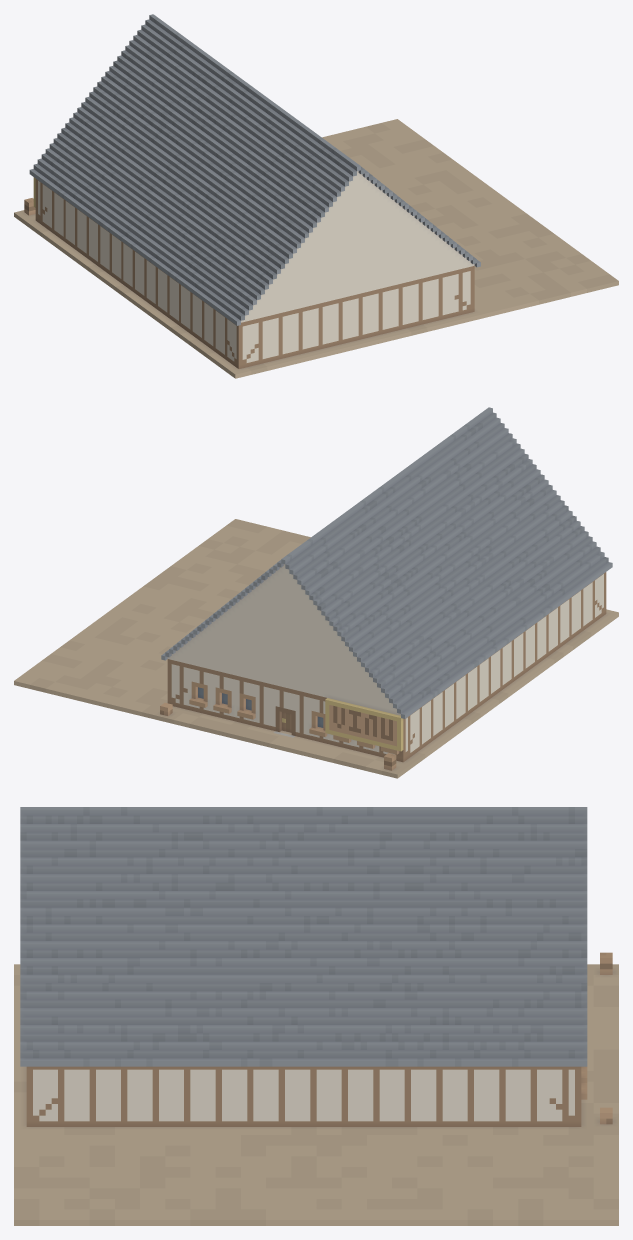
The model's file is university.glb.
3 views of the same model, one above another, from view 1: azimuth 30°, elevation 25°; view 2: azimuth 150°, elevation 25°; view 3: azimuth 270°, elevation 25° (orthographic). The views are drawn at different scales.
Visible parts, largest first — view 1: university; view 2: university; view 3: university.
Boxes of the visible parts, x1,y1,x2,y2 form: university: (14,14,618,378); university: (14,407,618,778); university: (14,807,618,1225).
Size of the model in its own units: 12 by 5.38 by 12.
